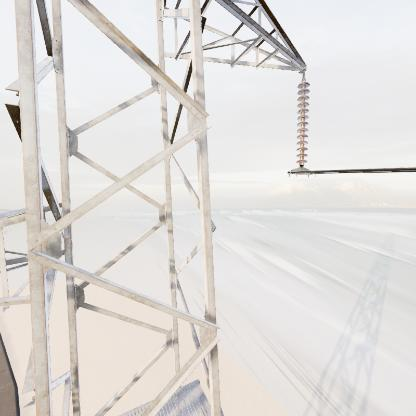insulator: (293, 80, 313, 172)
